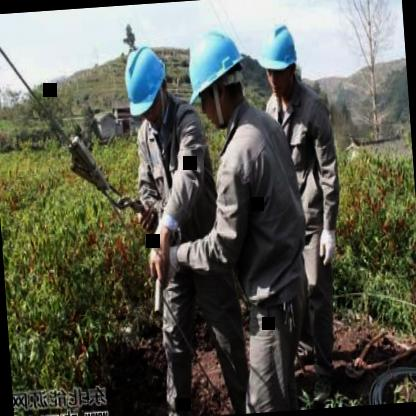helmet: (181, 20, 252, 132), (123, 42, 173, 126), (262, 19, 303, 104)
